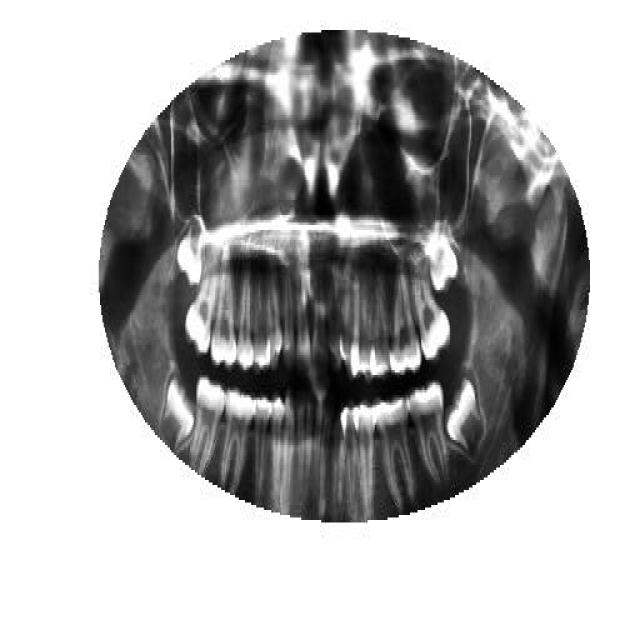Impacted Tooth: (442, 365, 488, 460), (162, 370, 198, 458), (426, 228, 460, 298), (176, 220, 205, 290)
